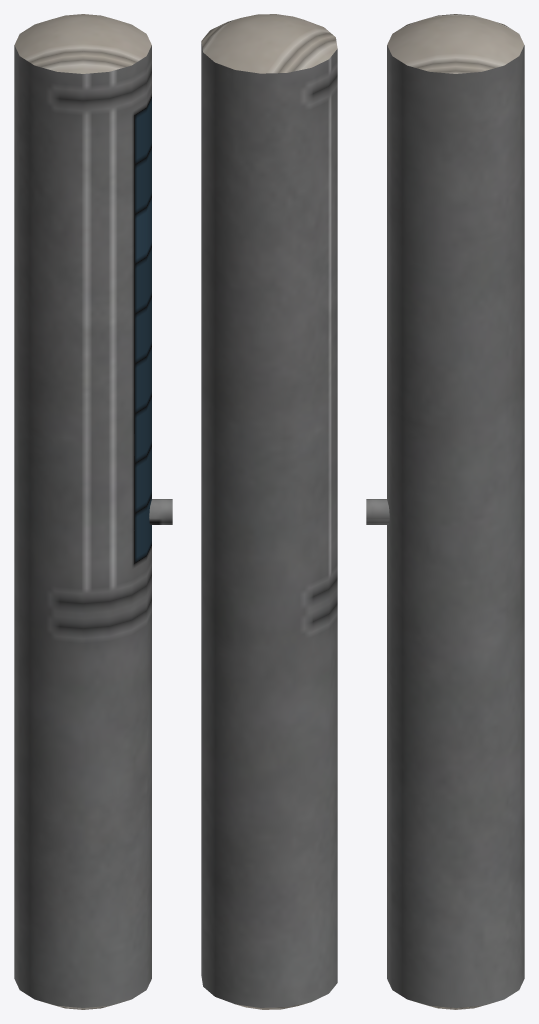
The model's file is fuel tanks.obj.
The picture shows the model from 3 angles, left to right: view 1: azimuth 90°, elevation 25°; view 2: azimuth 150°, elevation 25°; view 3: azimuth 270°, elevation 25°; orthographic projection.
Parts seen in each view (by area): view 1: 1; view 2: 1; view 3: 1.
Part boxes in pixels (box(x1,y1,x2,y2)): 1: box(14, 14, 172, 1009); 1: box(201, 14, 337, 1009); 1: box(366, 14, 524, 1009).
Bounding box in the file's own units: 0.25 × 1.95 × 0.2875.
